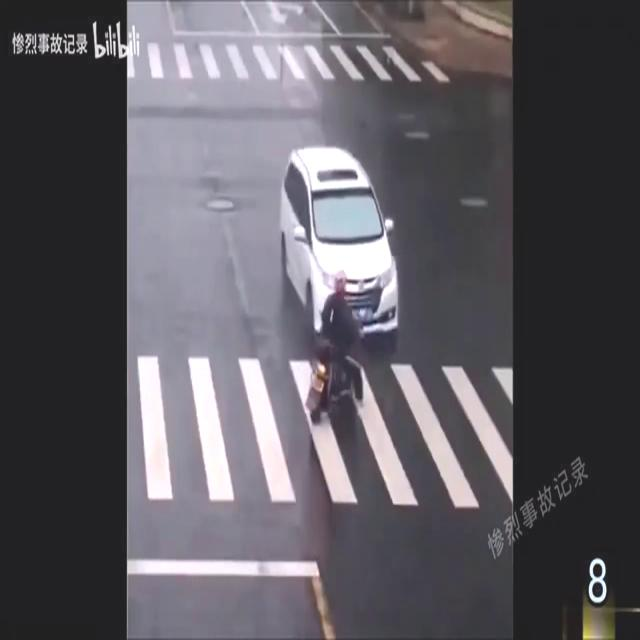accident: (278, 143, 402, 417)
